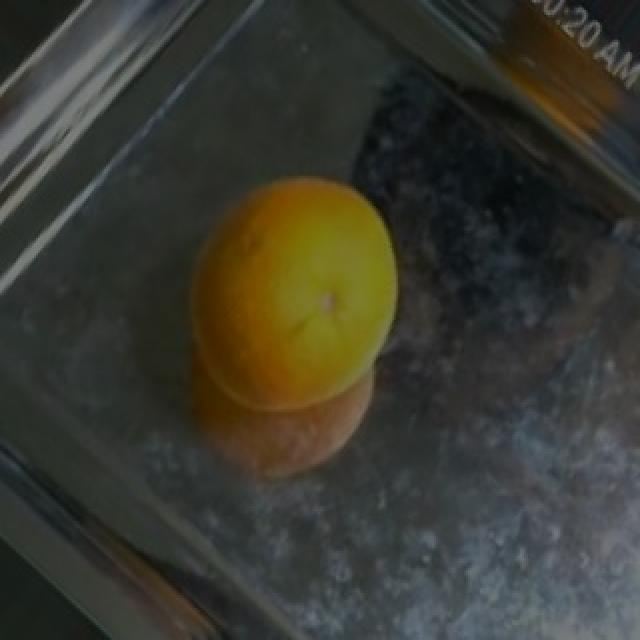Fruit: (162, 149, 422, 446)
